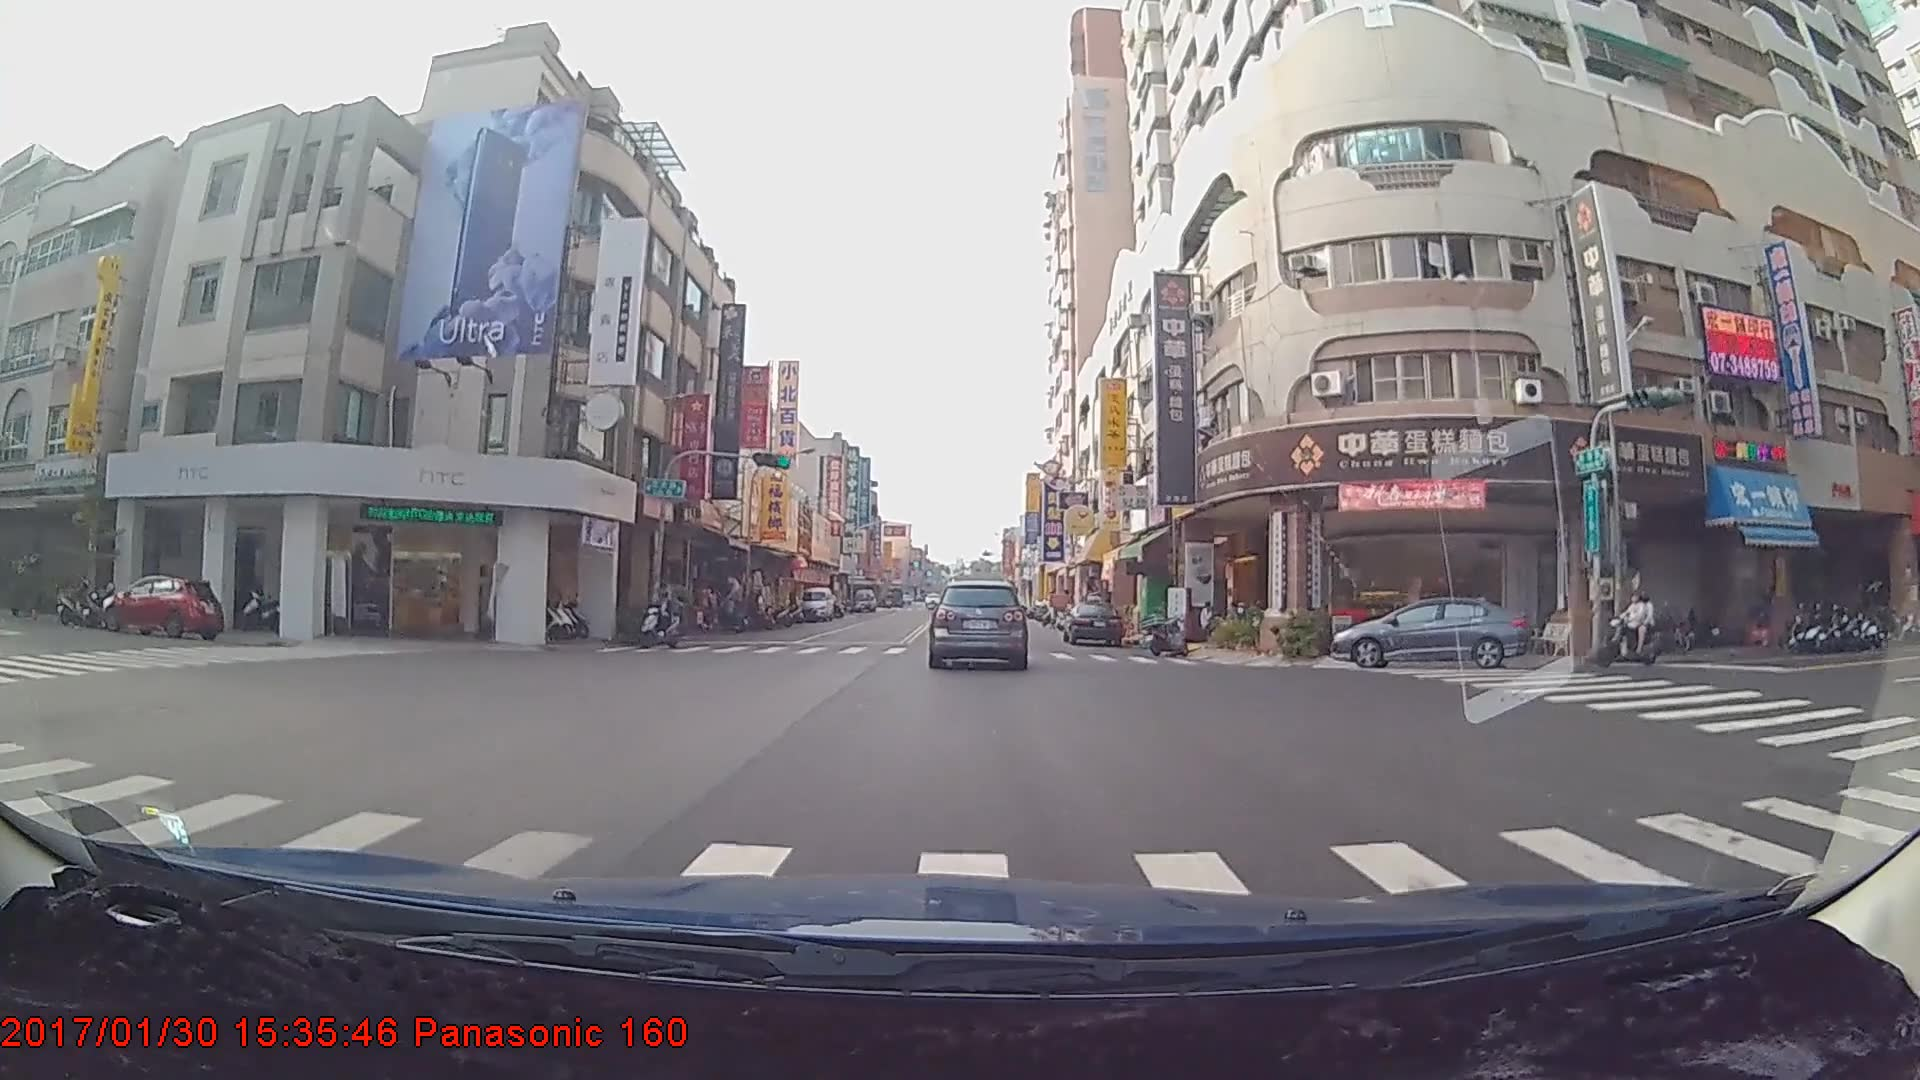rider: (1602, 595, 1664, 669), (638, 585, 686, 651)
vehicle: (1329, 596, 1531, 671), (929, 577, 1027, 669), (104, 573, 225, 641), (1063, 602, 1123, 650), (794, 587, 834, 623), (851, 585, 876, 611)
